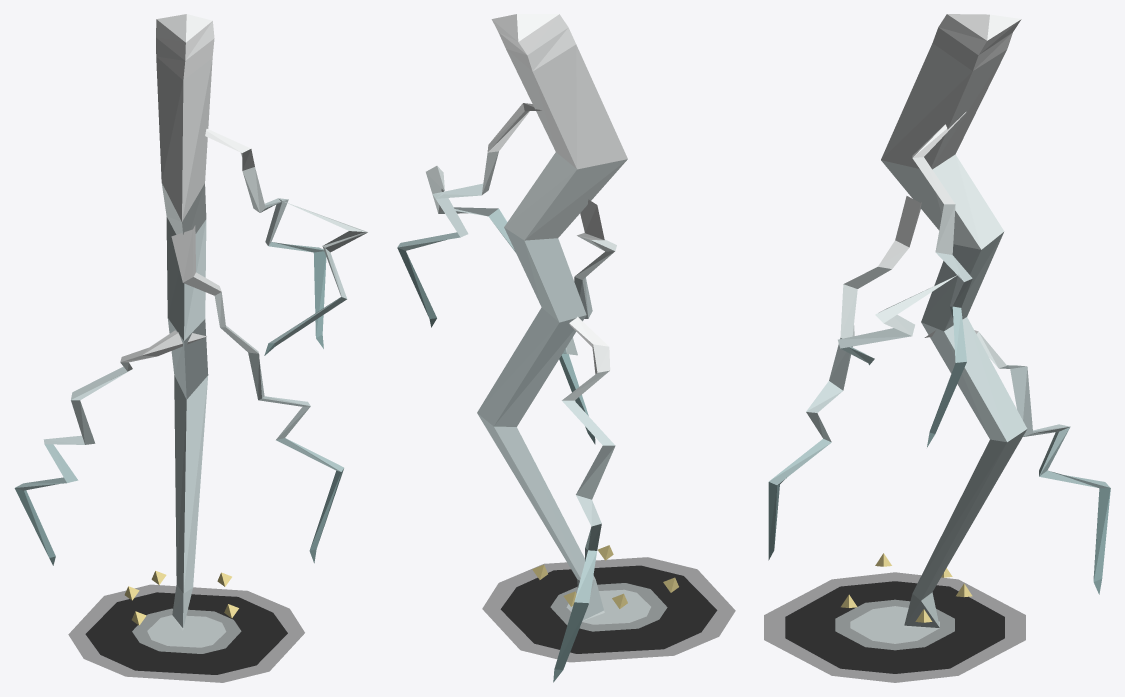
File: lightning_strike.glb
3 renders of one model, left to right at view 1: azimuth 30°, elevation 25°; view 2: azimuth 150°, elevation 25°; view 3: azimuth 270°, elevation 25°, orthographic. The views are drawn at different scales.
Bounding box in the file's own units: 124 × 244 × 121.
2 materials, 2 textured.
